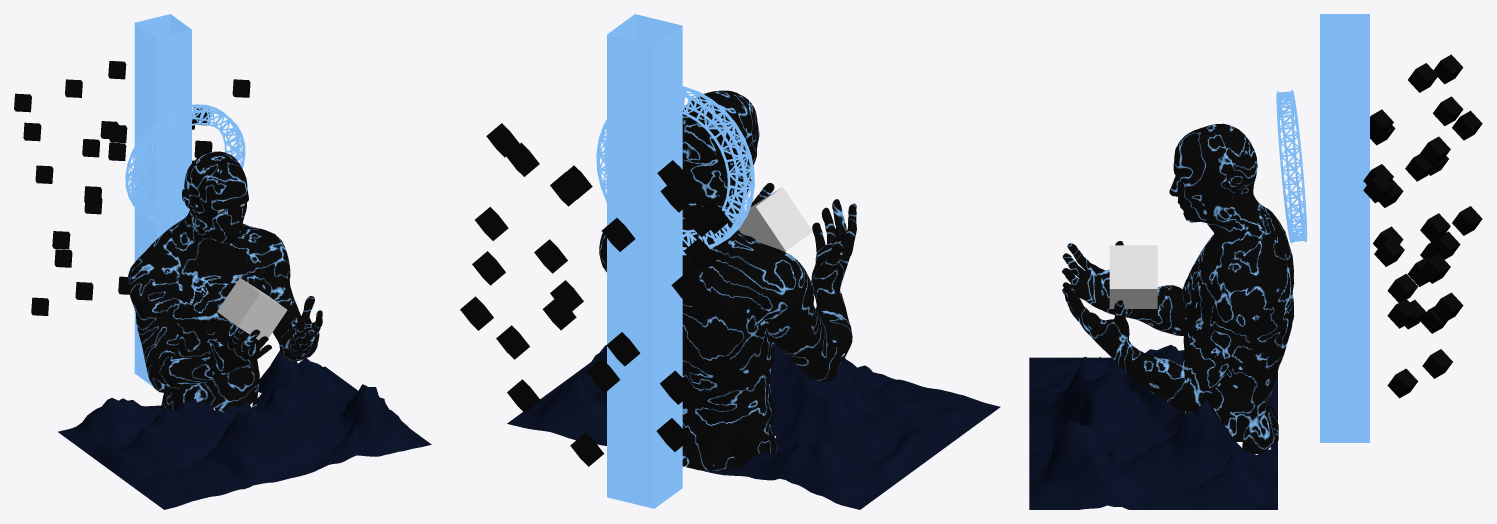
Rendered from Demon.glb.
3 views of the same model, side by side, from view 1: azimuth 30°, elevation 25°; view 2: azimuth 150°, elevation 25°; view 3: azimuth 270°, elevation 25° (orthographic). The views are drawn at different scales.
Visible parts, largest first — view 1: Landscape, Man, Pillar, Truss_Bridge, Box_001; view 2: Man, Pillar, Landscape, Truss_Bridge, Box_001, Box_025, Box_008, Box_024, Box_006, Box_018, Box_022, Box_010 (+15 smaller); view 3: Man, Landscape, Pillar, Box_001, Truss_Bridge, Box_006, Box_028, Box_007, Box_008, Box_011, Box_016, Box_017 (+8 smaller).
Boxes of the visible parts, bbox=[...] form: Landscape: bbox=[58, 350, 431, 509]; Man: bbox=[127, 151, 322, 412]; Pillar: bbox=[134, 14, 191, 386]; Truss_Bridge: bbox=[125, 104, 245, 226]; Box_001: bbox=[217, 278, 287, 339]; Man: bbox=[599, 90, 856, 470]; Pillar: bbox=[607, 14, 682, 508]; Landscape: bbox=[507, 342, 1000, 509]; Truss_Bridge: bbox=[596, 86, 754, 255]; Box_001: bbox=[735, 187, 812, 251]; Box_025: bbox=[710, 355, 744, 389]; Box_008: bbox=[657, 160, 691, 194]; Box_024: bbox=[724, 431, 758, 465]; Box_006: bbox=[506, 142, 539, 176]; Box_018: bbox=[606, 332, 640, 365]; Box_022: bbox=[684, 282, 717, 316]; Box_010: bbox=[660, 370, 693, 404]; Man: bbox=[1062, 123, 1294, 453]; Landscape: bbox=[1029, 344, 1277, 509]; Pillar: bbox=[1320, 14, 1369, 442]; Box_001: bbox=[1109, 245, 1157, 308]; Truss_Bridge: bbox=[1276, 90, 1307, 243]; Box_006: bbox=[1420, 136, 1450, 166]; Box_028: bbox=[1363, 173, 1393, 203]; Box_007: bbox=[1420, 213, 1450, 242]; Box_008: bbox=[1408, 63, 1437, 92]; Box_011: bbox=[1374, 237, 1404, 266]; Box_016: bbox=[1452, 206, 1482, 235]; Box_017: bbox=[1452, 110, 1482, 140].
Size of the model in its own units: 2.42 by 3.04 by 3.05.
Materials: 7 (1 with a texture image).
